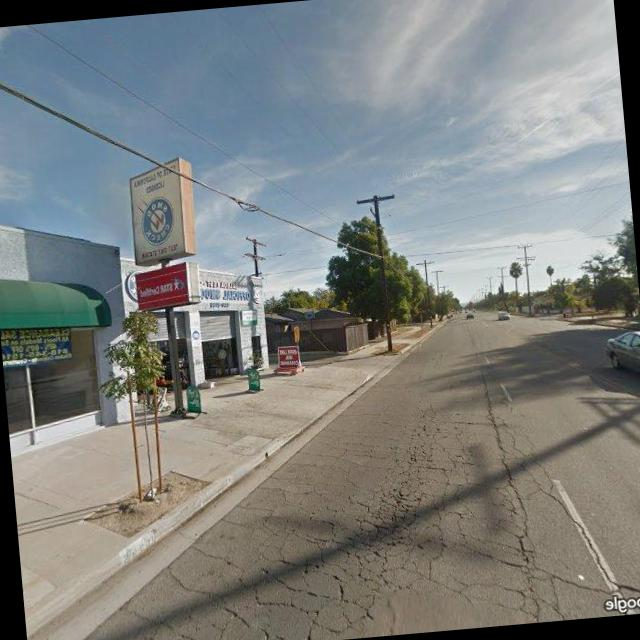crack: (153, 371, 547, 640)
pothole: (523, 415, 638, 611)
